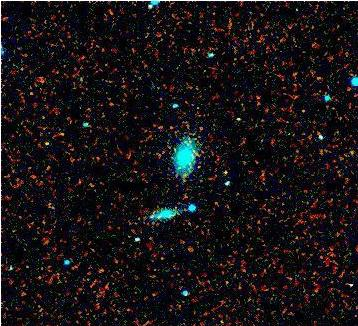star: (210, 155, 240, 185)
